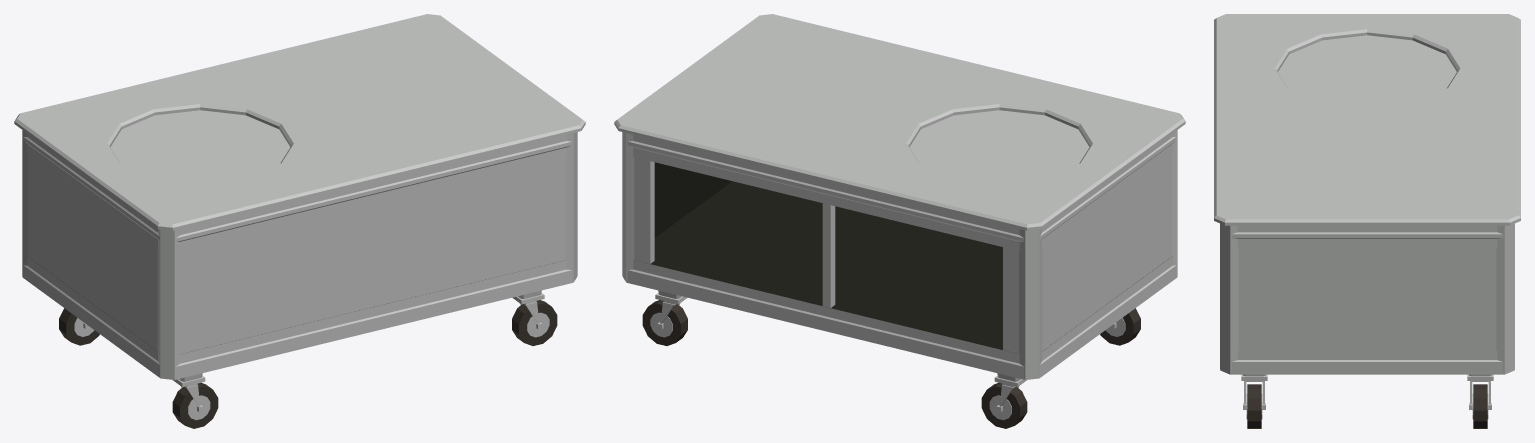
The model's file is SM_Cart_BaoBody_01.fbx.
3 views of the same model, side by side, from view 1: azimuth 30°, elevation 25°; view 2: azimuth 150°, elevation 25°; view 3: azimuth 270°, elevation 25° (orthographic).
Visible parts, largest first — view 1: SM_Cart_BaoBody_01; view 2: SM_Cart_BaoBody_01; view 3: SM_Cart_BaoBody_01.
Boxes of the visible parts, x1,y1,x2,y2 form: SM_Cart_BaoBody_01: (14,14,585,428); SM_Cart_BaoBody_01: (614,14,1185,428); SM_Cart_BaoBody_01: (1214,14,1520,428).
Bounding box in the file's own units: 1.56 × 0.786 × 0.978.
Materials: 1 (1 with a texture image).
